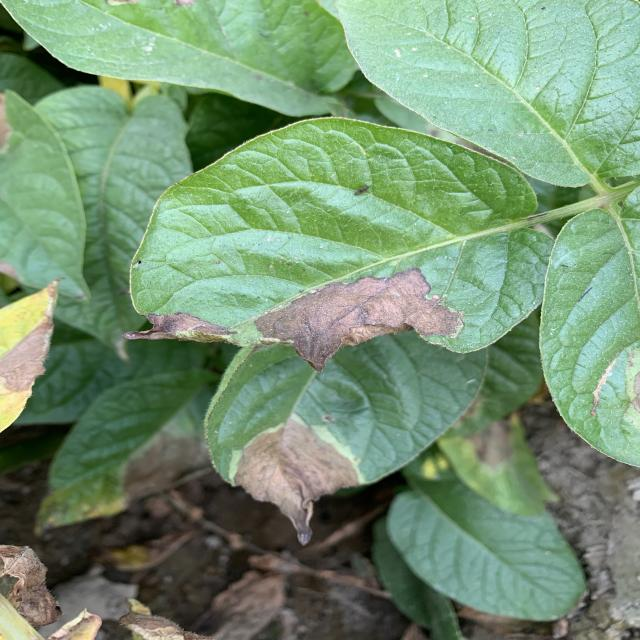lateblight: (255, 269, 463, 371), (235, 415, 358, 545), (125, 312, 235, 342)
